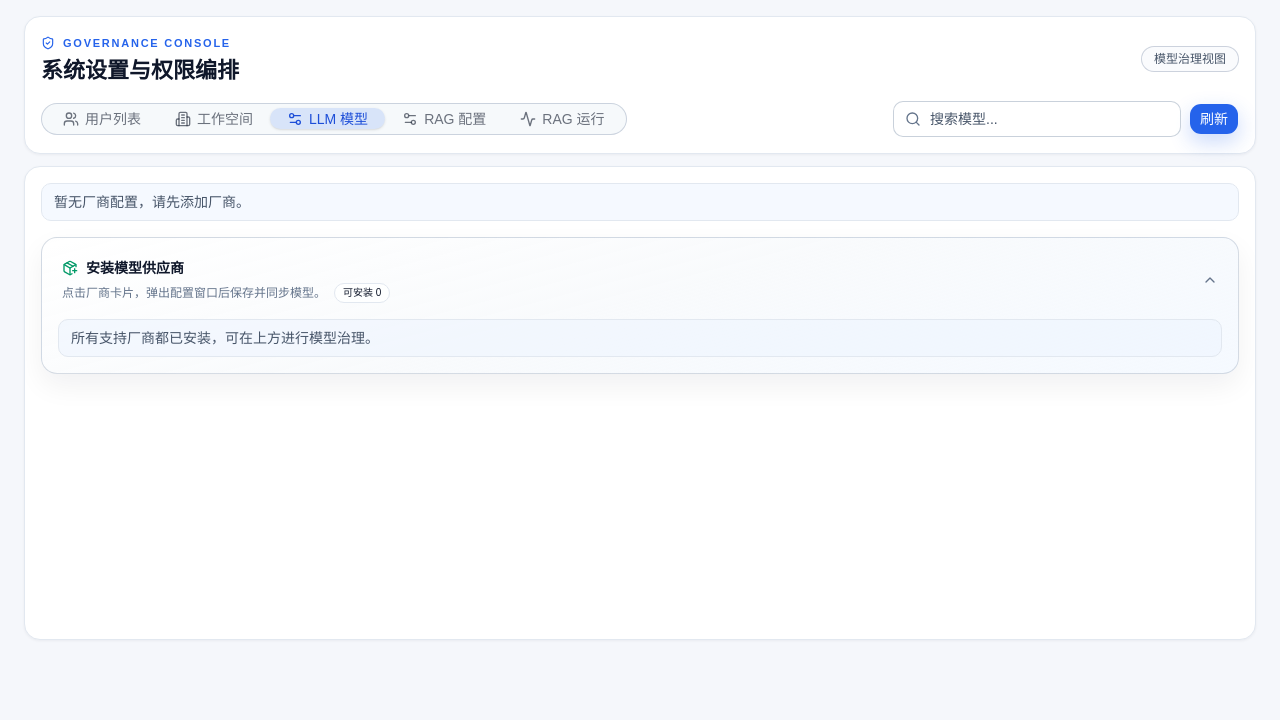
Test case: SettingsPage governance visibility › renders readable 403 error when rollback is forbidden
Click the tab "用户列表" at (102, 119), box [46, 108, 158, 129]
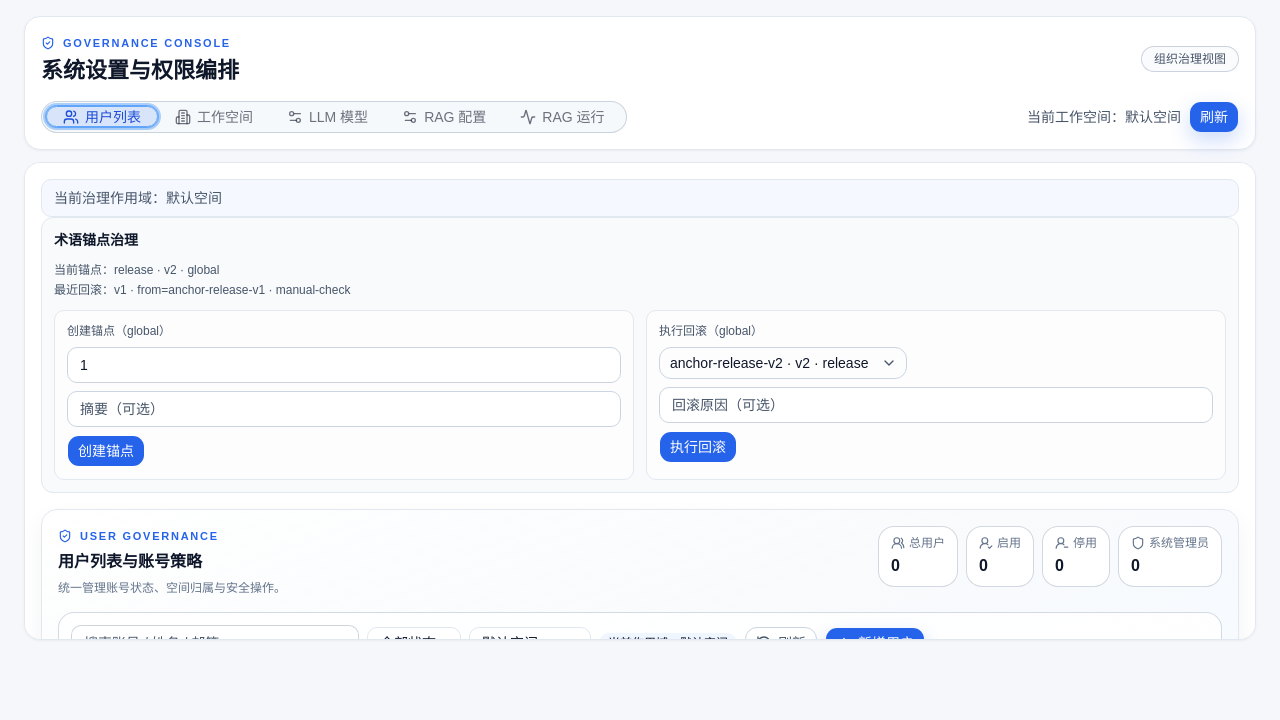
expect the heading "术语锚点治理" is shown: met, box [54, 232, 138, 248]
Click the button "执行回滚" at (698, 447), box [659, 431, 737, 463]
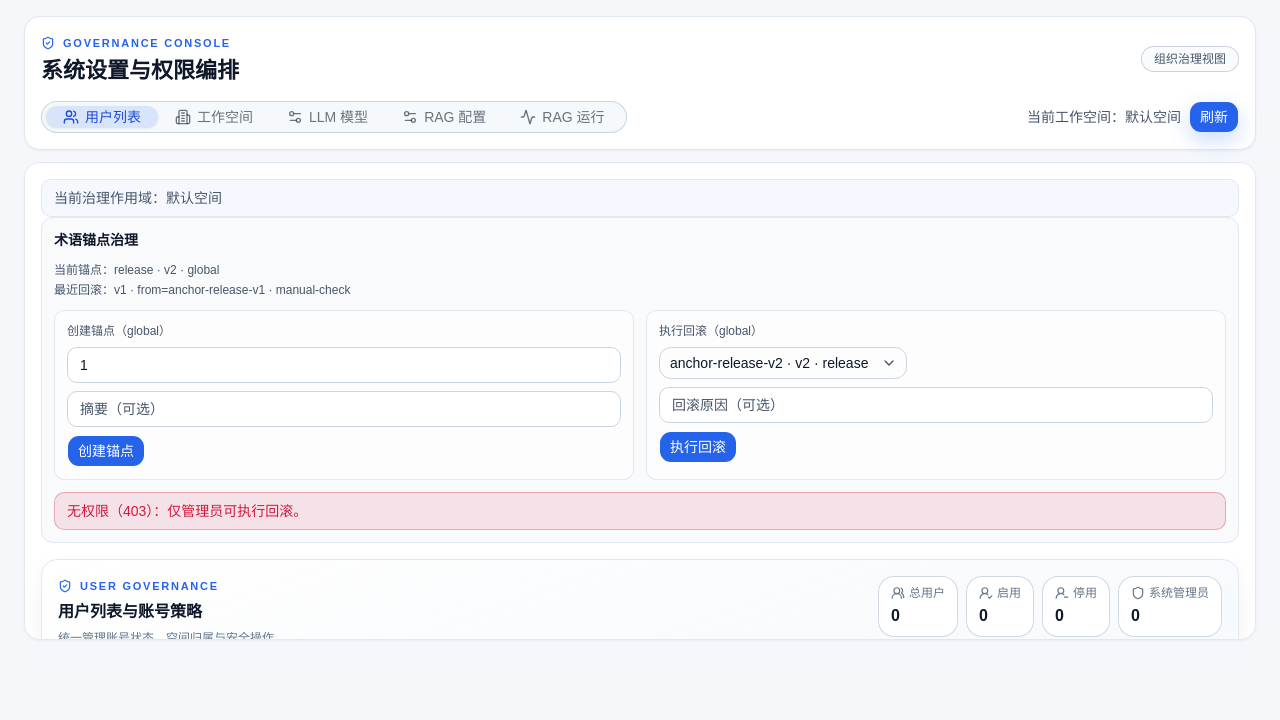
expect the text "无权限（403）：仅管理员可执行回滚。" is shown: met, box [54, 492, 1226, 530]
